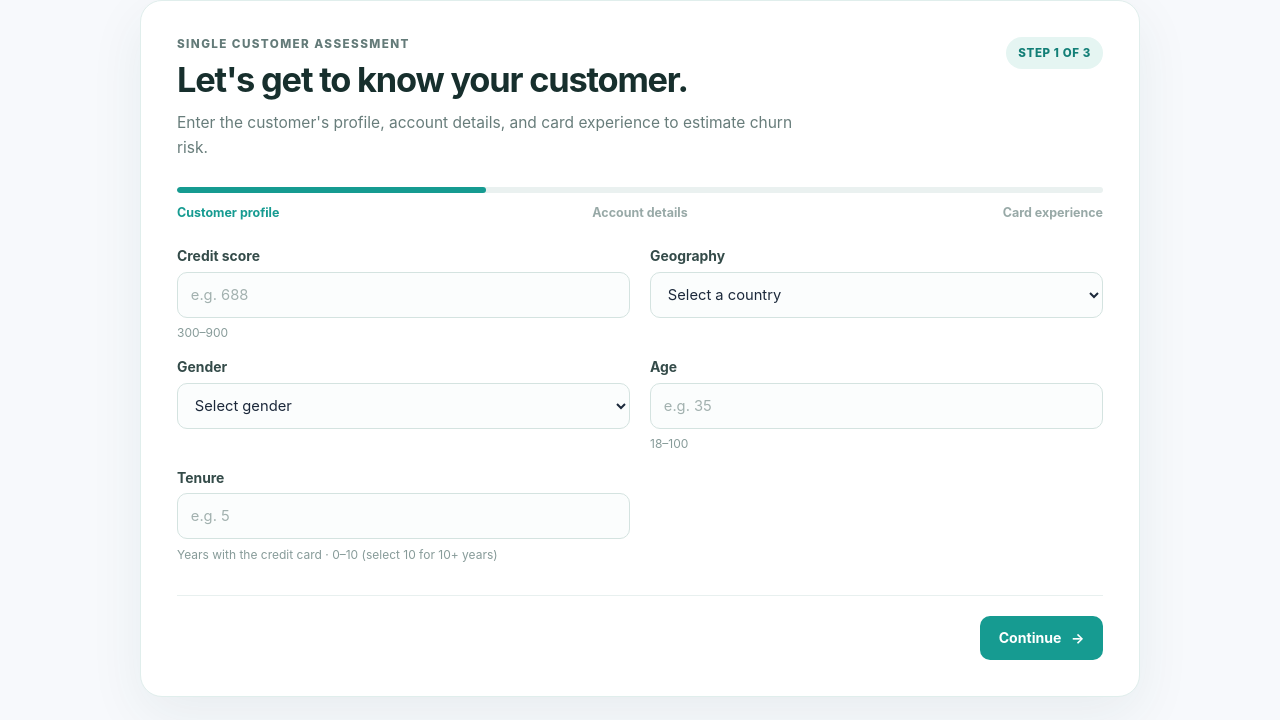
Test: CustomerQuiz › validates Credit score (299) and stays on the first step
In the number field labelled "Credit score": (404, 295) 177,272 -> 630,318, type "299"
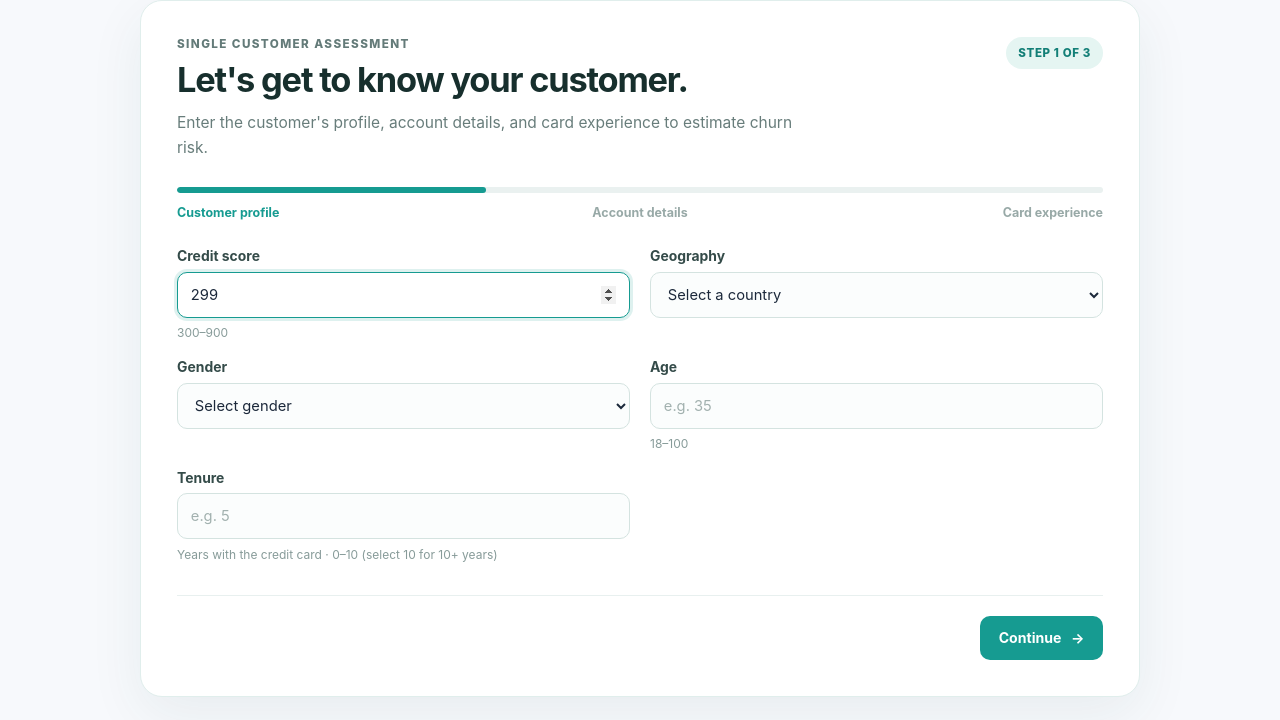
Select "México" in the dropdown labelled "Geography": (876, 295) 650,272 -> 1103,318
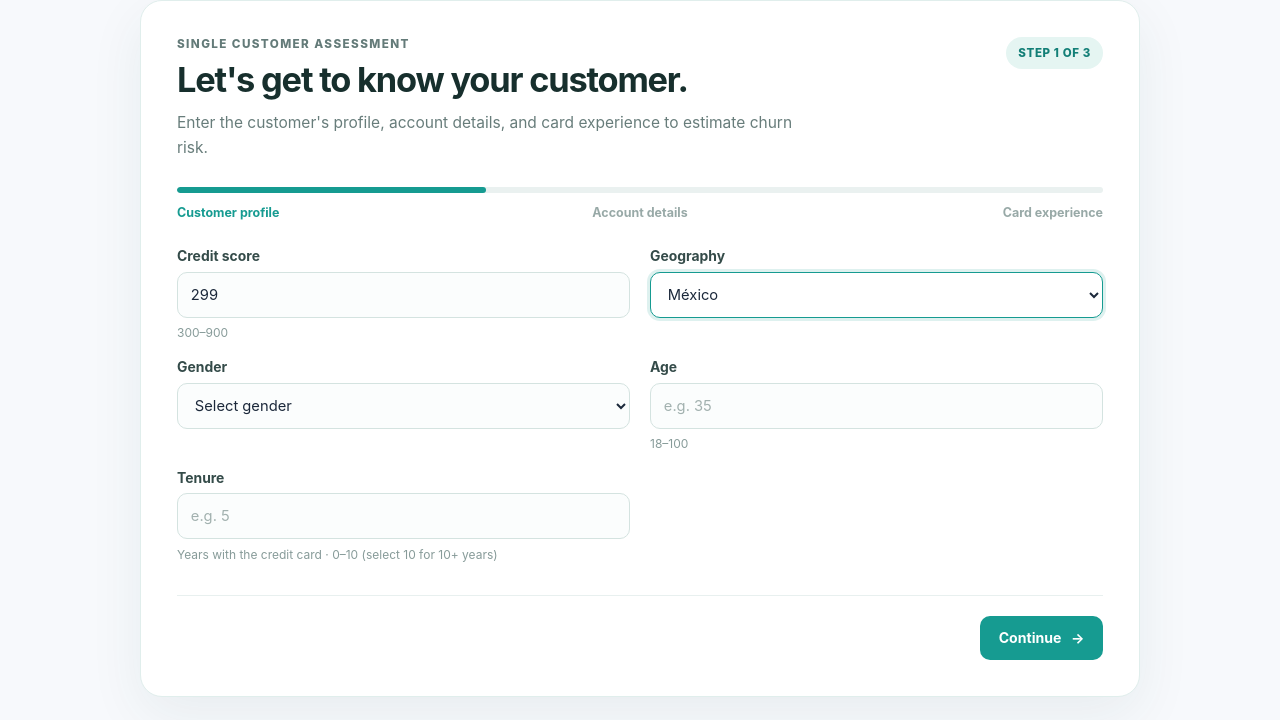
Select "Female" in the dropdown labelled "Gender": (404, 406) 177,382 -> 630,428
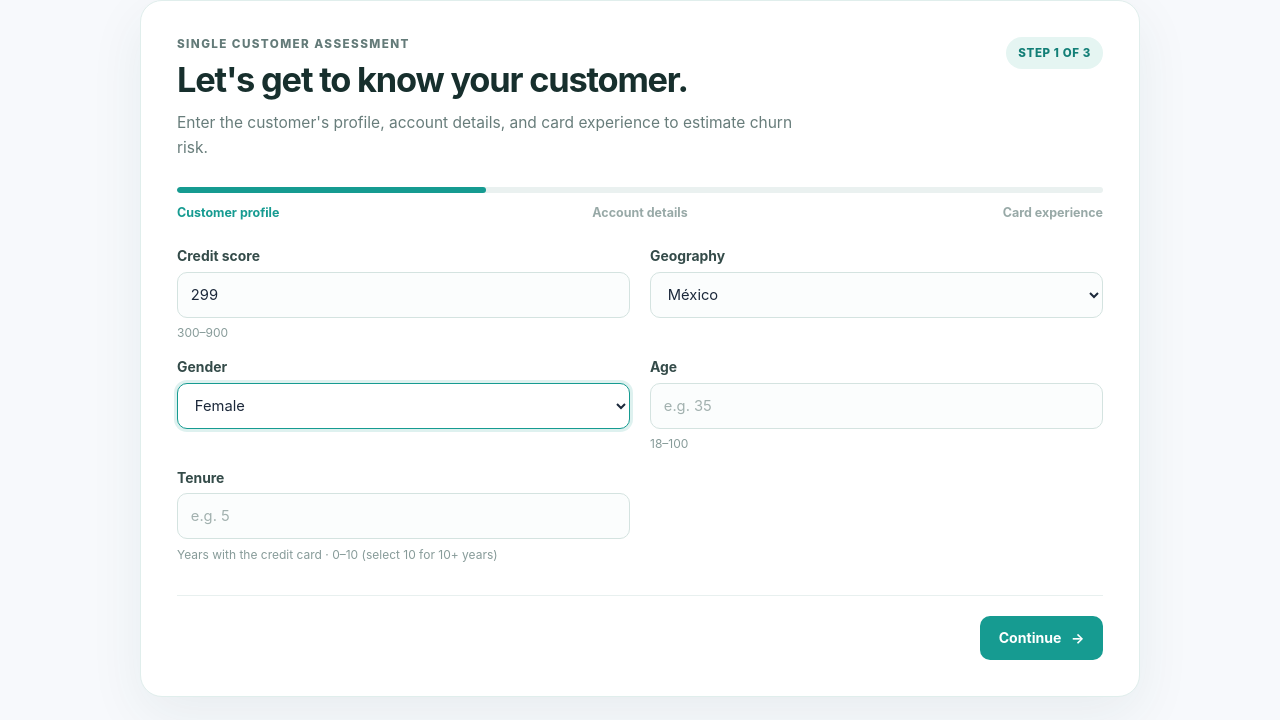
In the number field labelled "Age": (876, 406) 650,382 -> 1103,428, type "35"
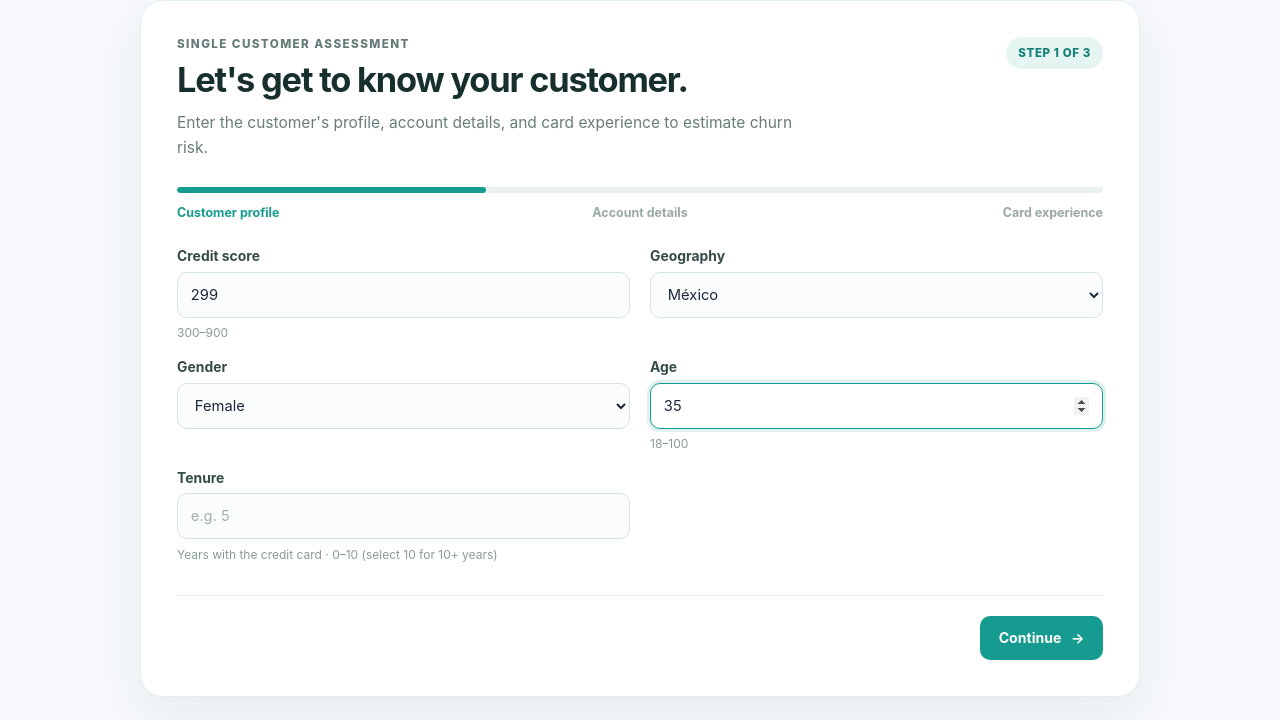
In the number field labelled "Tenure": (404, 516) 177,494 -> 630,540, type "5"
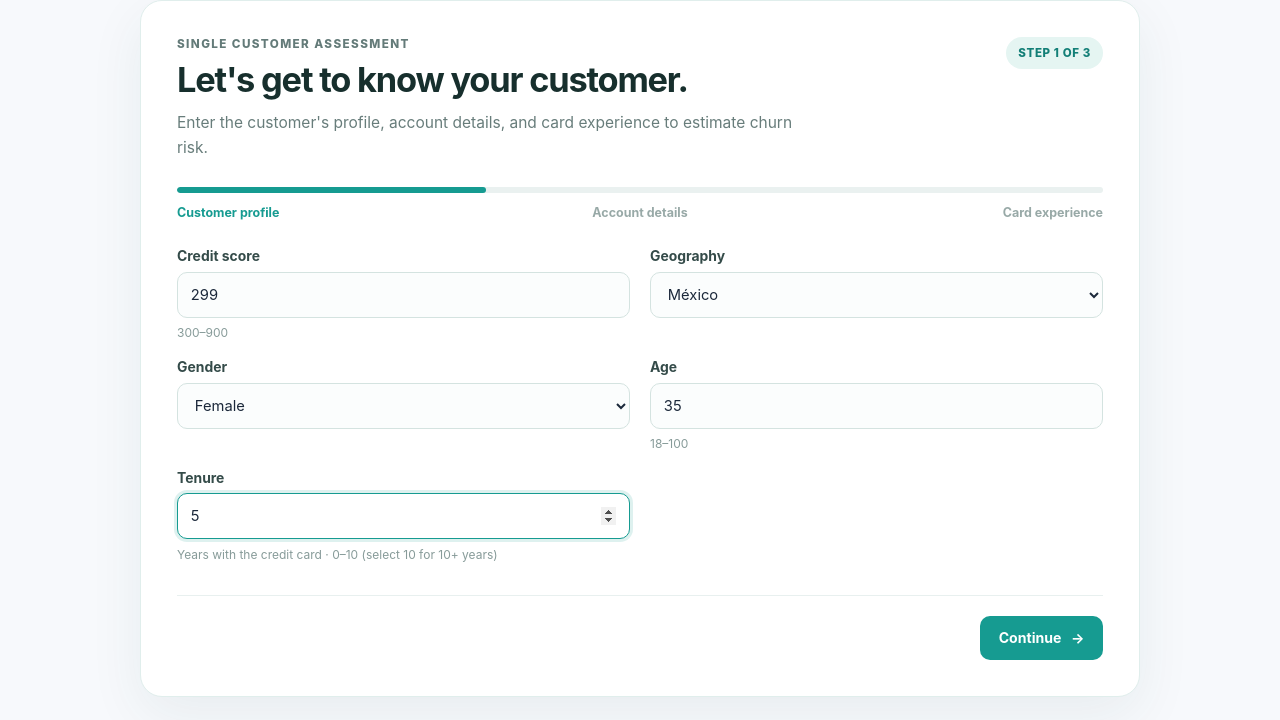
Click the button "Continue →": (1042, 638) 980,616 -> 1103,660
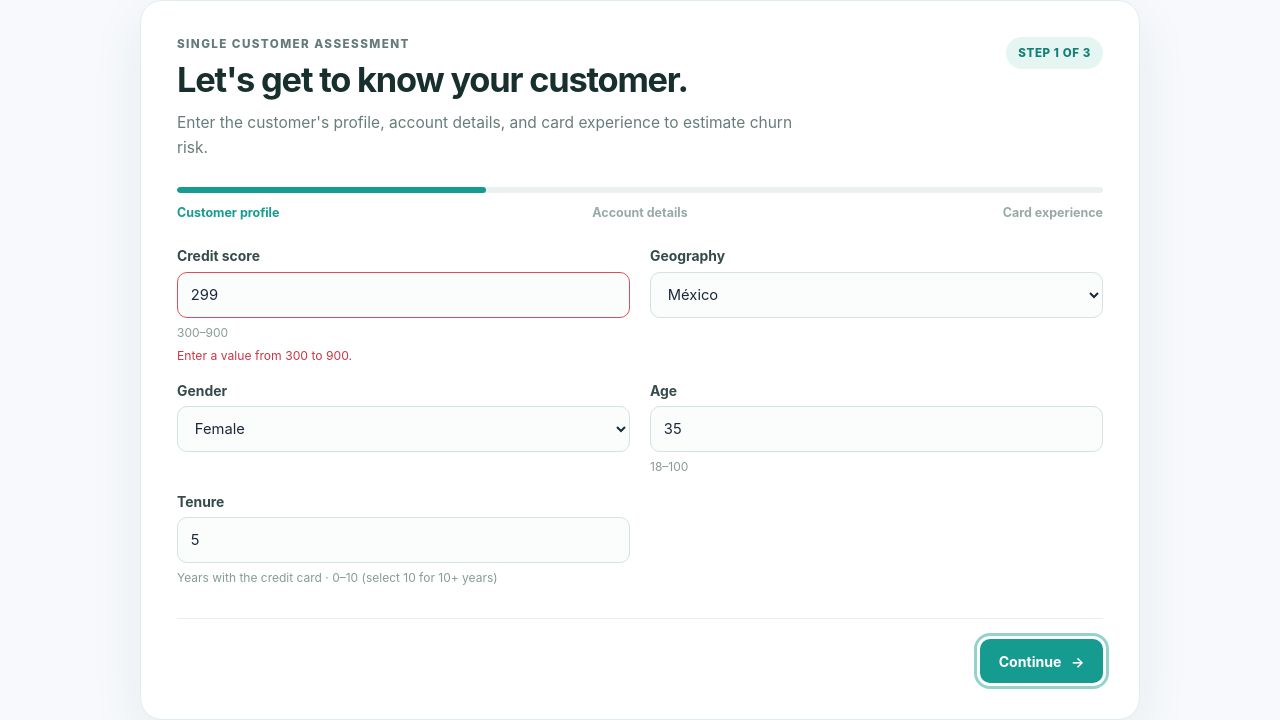
Expected: the text "STEP 1 OF 3" is shown, 1006,37 -> 1103,69
Expected: the text "Enter a value from 300 to 900." is shown, 177,348 -> 352,363
